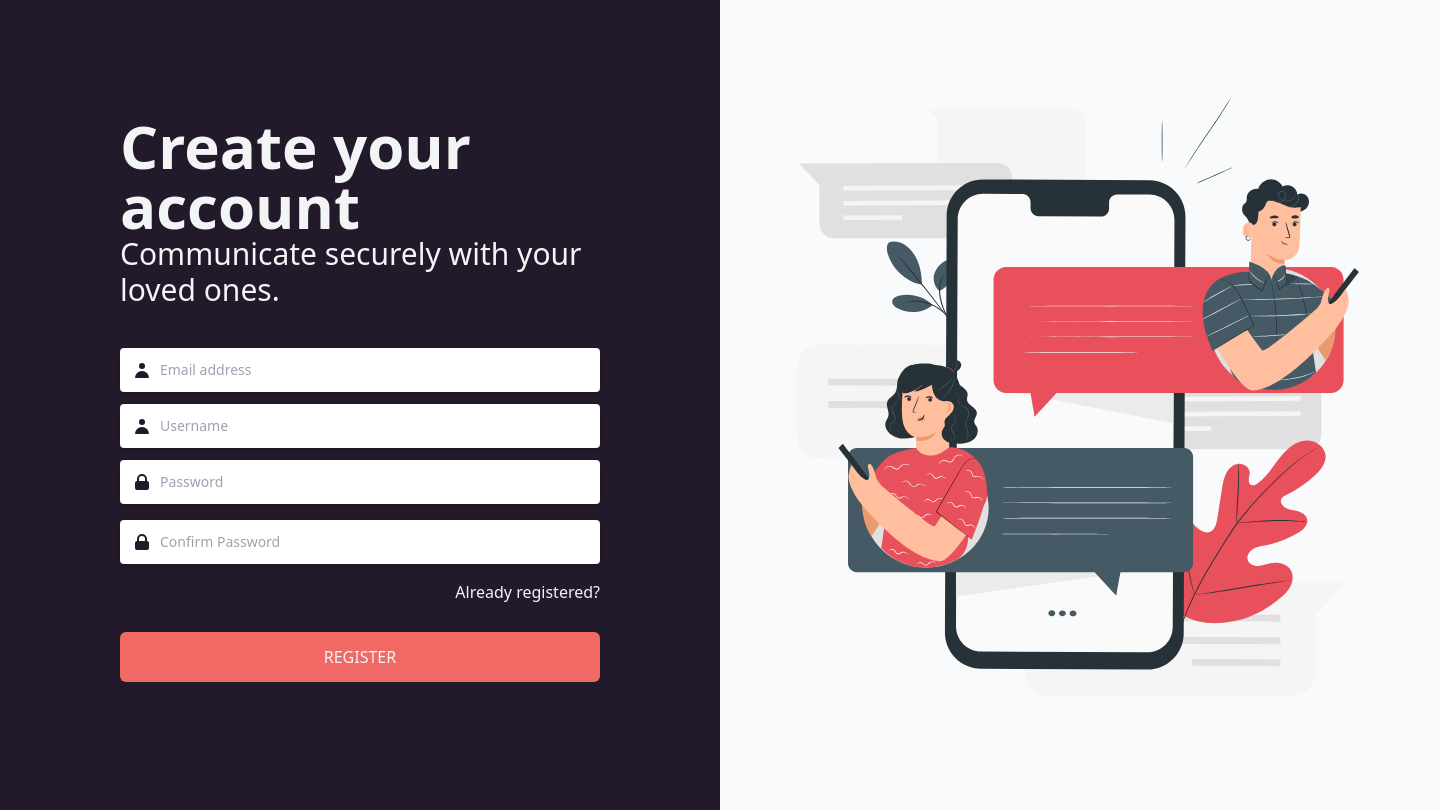
Test: click already registered, should redirect to login page
Click the link "Already registered?".
click(528, 592)  # box top-left (455, 580), bottom-right (600, 604)
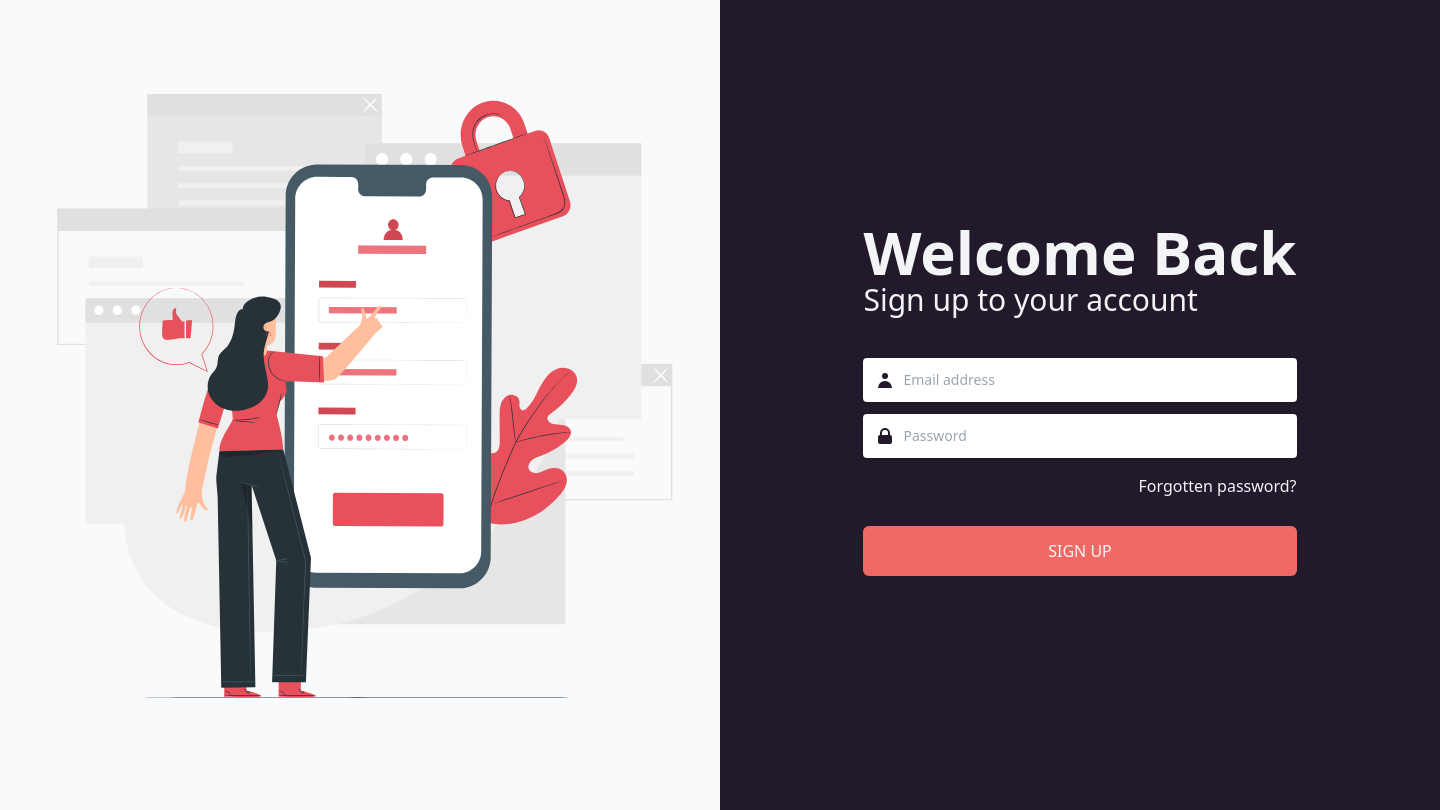
Check: the text "Sign up to your account" is shown, box top-left (863, 279), bottom-right (1198, 320)
